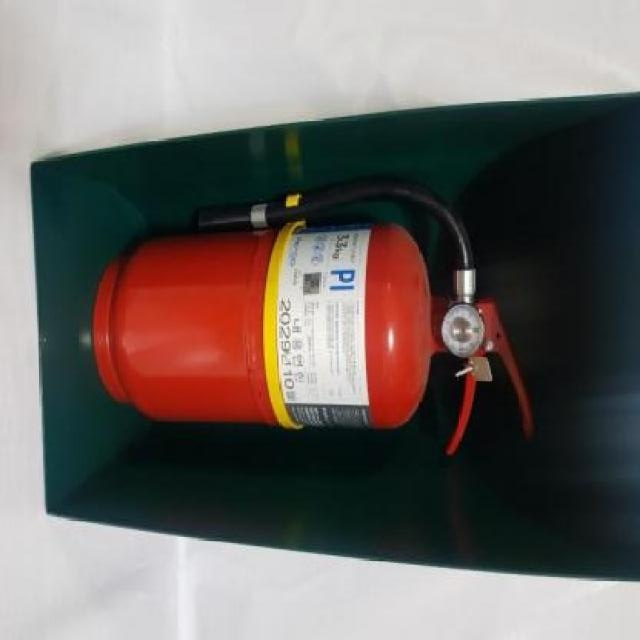fire extinguisher: (93, 170, 533, 456)
